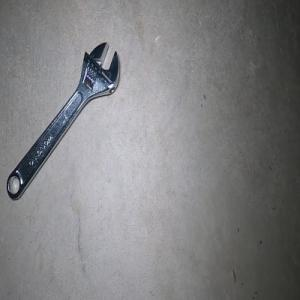Wrench: (6, 41, 119, 199)
